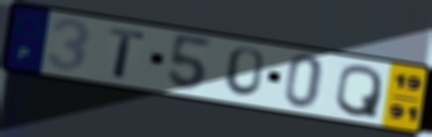0: (284, 54, 330, 112), (221, 46, 267, 99)
3: (45, 18, 97, 75)
5: (164, 31, 216, 94)
Q: (333, 63, 385, 120)
T: (107, 25, 147, 81)
